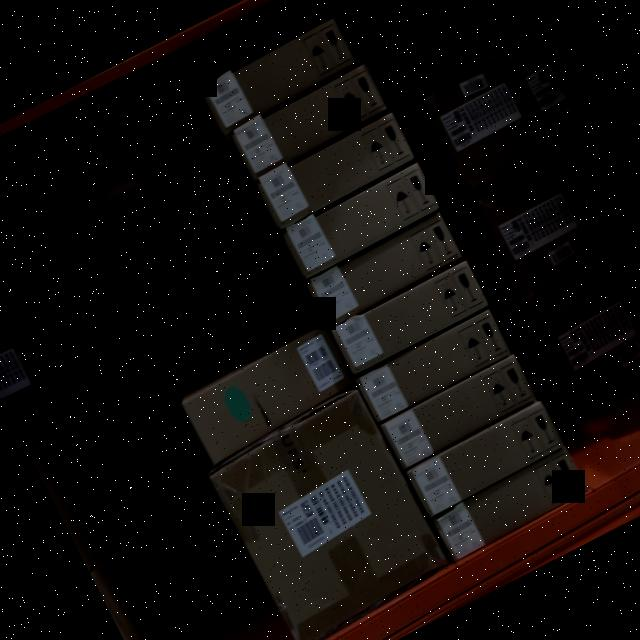box: (206, 390, 450, 640), (182, 328, 354, 454), (474, 160, 606, 302), (416, 50, 548, 191), (255, 114, 416, 228), (305, 212, 463, 328), (230, 65, 388, 180), (406, 402, 564, 516), (282, 163, 440, 274), (201, 20, 357, 132), (356, 310, 512, 420), (334, 264, 488, 372), (381, 356, 535, 464), (528, 266, 640, 409), (432, 452, 586, 556)
